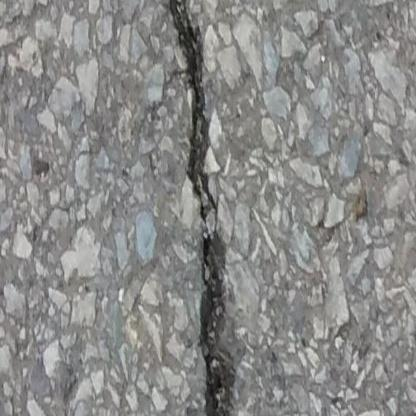Cracks: (165, 0, 239, 416)
